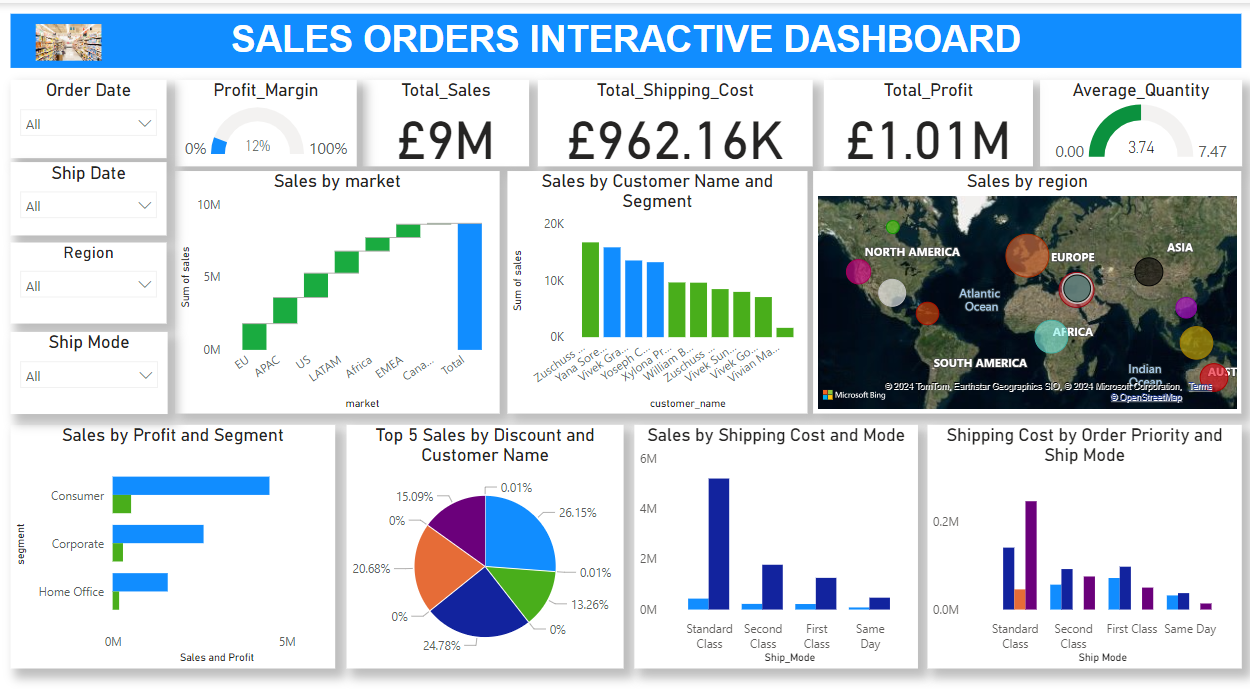

Layout of this report page (visuals, bound fields, positions):
{"tool":"powerbi","page":{"name":"Super_Store_Orders","canvas":[1280,720],"ordinal":0},"visuals":[{"type":"card","title":"Total_Sales","fields":{"Values":["SuperStoreOrders.Total_Sales"]},"box":[373.5,77.8,170.2,88.5],"z":0},{"type":"card","title":"Total_Shipping_Cost","fields":{"Values":["SuperStoreOrders.Total_Shipping_Cost"]},"box":[552.5,77.8,281.1,88.5],"z":1},{"type":"card","title":"Total_Profit","fields":{"Values":["SuperStoreOrders.Total_Profit"]},"box":[843.3,77.8,214,88.5],"z":2},{"type":"gauge","fields":{"Y":["SuperStoreOrders.Average_Quantity"]},"box":[1065,77.8,206.2,88.5],"z":3},{"type":"gauge","fields":{"Y":["SuperStoreOrders.Profit_Margin"]},"box":[179.9,77.8,185.8,88.5],"z":4},{"type":"waterfallChart","title":"Sales by market","fields":{"Y":["SuperStoreOrders.sales"],"Category":["Dim_Customer.market"]},"box":[179.9,171.2,331.7,248],"z":5},{"type":"columnChart","title":"Sales by Customer Name and Segment","fields":{"Category":["Dim_Customer.customer_name"],"Series":["Dim_Customer.segment"],"Y":["SuperStoreOrders.sales"]},"box":[520.4,171.2,306.4,248],"z":6},{"type":"map","title":"Sales by region","fields":{"Size":["SuperStoreOrders.sales"],"Category":["Dim_Customer.region"]},"box":[833.6,171.2,437.7,248],"z":7},{"type":"clusteredBarChart","title":"Sales by Profit and Segment","fields":{"Category":["Dim_Customer.segment"],"Y":["SuperStoreOrders.sales","SuperStoreOrders.profit"]},"box":[13.6,430.9,331.7,249],"z":8},{"type":"pieChart","title":"Top 5 Sales by Discount and Customer Name","fields":{"Category":["Dim_Customer.customer_name"],"Y":["SuperStoreOrders.discount","SuperStoreOrders.sales"]},"box":[357,430.9,283,249],"z":9},{"type":"clusteredColumnChart","title":"Sales by Shipping Cost and Mode","fields":{"Category":["Dim_Ship.ship_mode"],"Y":["SuperStoreOrders.shipping_cost","SuperStoreOrders.sales"]},"box":[650.7,430.9,289.8,249],"z":10},{"type":"clusteredColumnChart","title":"Shipping Cost by Order Priority and Ship Mode","fields":{"Category":["Dim_Ship.ship_mode"],"Series":["SuperStoreOrders.order_priority"],"Y":["SuperStoreOrders.shipping_cost"]},"box":[950.3,430.9,321,249],"z":11},{"type":"slicer","title":"Order Date","fields":{"Values":["Dim_Date.order_date.Variation.Date Hierarchy.Year","Dim_Date.order_date.Variation.Date Hierarchy.Quarter","Dim_Date.order_date.Variation.Date Hierarchy.Month","Dim_Date.order_date.Variation.Date Hierarchy.Day"]},"box":[13.6,77.8,159.5,79.8],"z":12},{"type":"slicer","title":"Ship Date","fields":{"Values":["Dim_Date.ship_date.Variation.Date Hierarchy.Year","Dim_Date.ship_date.Variation.Date Hierarchy.Quarter","Dim_Date.ship_date.Variation.Date Hierarchy.Month","Dim_Date.ship_date.Variation.Date Hierarchy.Day"]},"box":[13.6,162.4,159.5,74.9],"z":13},{"type":"slicer","title":"Region","fields":{"Values":["Dim_Customer.region"]},"box":[13.6,245.1,159.5,82.7],"z":14},{"type":"slicer","title":"Ship Mode","fields":{"Values":["Dim_Ship.ship_mode"]},"box":[13.6,335.6,160.5,83.6],"z":15},{"type":"textbox","box":[13.6,11.7,1257.6,55.4],"z":16},{"type":"image","box":[20.4,15.6,104.1,47.7],"z":17}]}

Visuals, with their boxes in screenshot pixels (x1, y1, x2, y2), scaled from the page's 1280x720 canvas onto the 1250x689 screenshot:
"Total_Sales" card: [365, 74, 531, 159]
"Total_Shipping_Cost" card: [540, 74, 814, 159]
"Total_Profit" card: [824, 74, 1033, 159]
gauge - SuperStoreOrders.Average_Quantity: [1040, 74, 1241, 159]
gauge - SuperStoreOrders.Profit_Margin: [176, 74, 357, 159]
"Sales by market" waterfallChart: [176, 164, 500, 401]
"Sales by Customer Name and Segment" columnChart: [508, 164, 807, 401]
"Sales by region" map: [814, 164, 1242, 401]
"Sales by Profit and Segment" clusteredBarChart: [13, 412, 337, 651]
"Top 5 Sales by Discount and Customer Name" pieChart: [349, 412, 625, 651]
"Sales by Shipping Cost and Mode" clusteredColumnChart: [635, 412, 918, 651]
"Shipping Cost by Order Priority and Ship Mode" clusteredColumnChart: [928, 412, 1242, 651]
"Order Date" slicer: [13, 74, 169, 151]
"Ship Date" slicer: [13, 155, 169, 227]
"Region" slicer: [13, 235, 169, 314]
"Ship Mode" slicer: [13, 321, 170, 401]
textbox: [13, 11, 1241, 64]
image: [20, 15, 122, 61]
